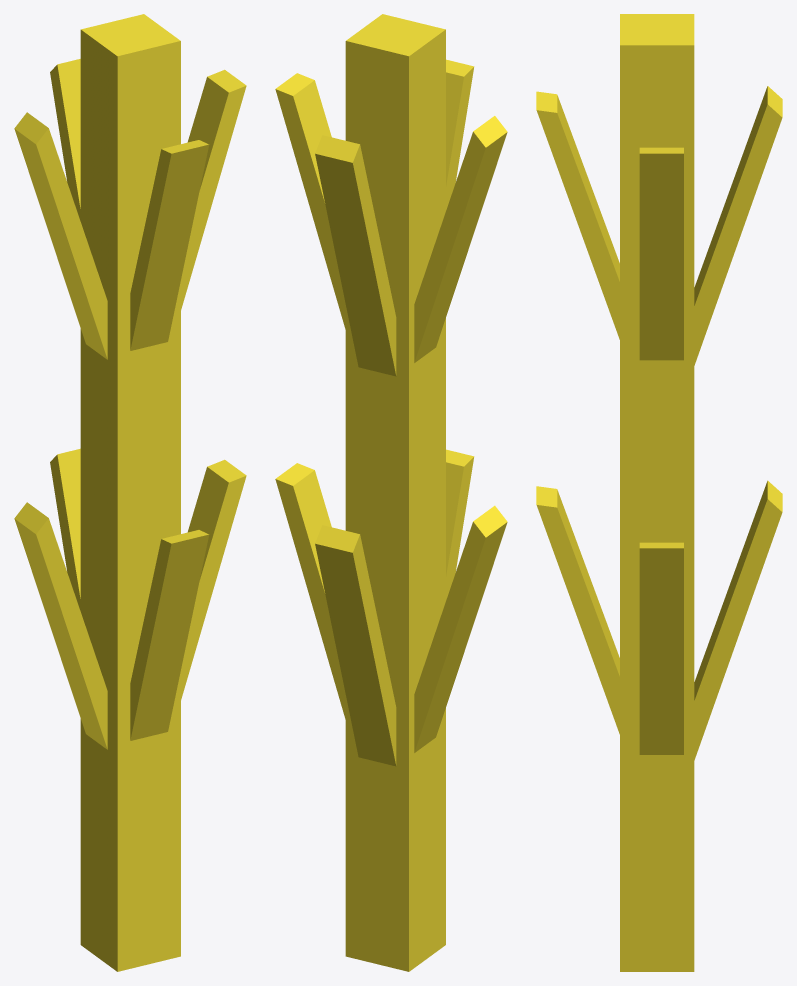
The model's file is herb1.fbx.
3 renders of one model, left to right at view 1: azimuth 30°, elevation 25°; view 2: azimuth 150°, elevation 25°; view 3: azimuth 270°, elevation 25°, orthographic.
Parts seen in each view (by area): view 1: Cube_7; view 2: Cube_7; view 3: Cube_7.
Part boxes in pixels (x1,y1,x2,y2): Cube_7: [14, 14, 246, 971]; Cube_7: [275, 14, 507, 971]; Cube_7: [536, 14, 782, 971].
Bounding box in the file's own units: 24.89 × 103 × 24.89.
